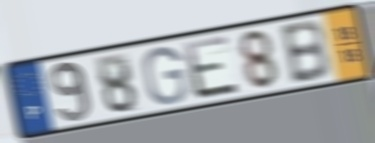8: (95, 52, 140, 116), (236, 28, 281, 91)
9: (48, 60, 94, 124)
B: (277, 17, 333, 87)
E: (180, 32, 243, 102)
G: (141, 44, 191, 107)
